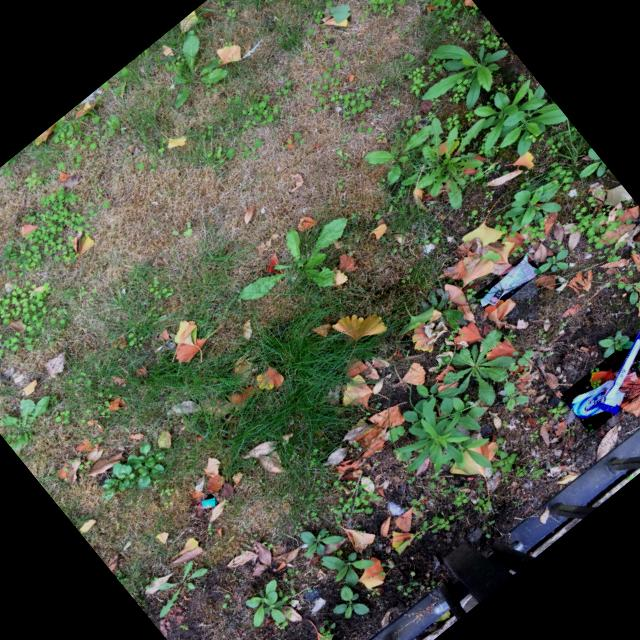Other Carton: (202, 497, 215, 508)
Other plastic: (572, 332, 640, 419)
Unlabeled litter: (481, 253, 539, 306)
